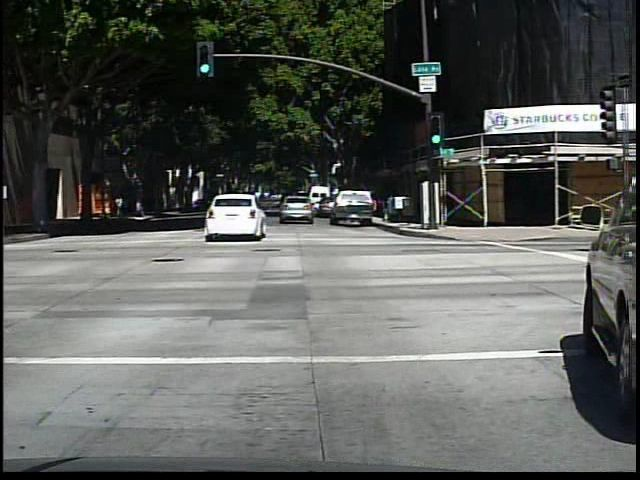person: (112, 193, 129, 222)
